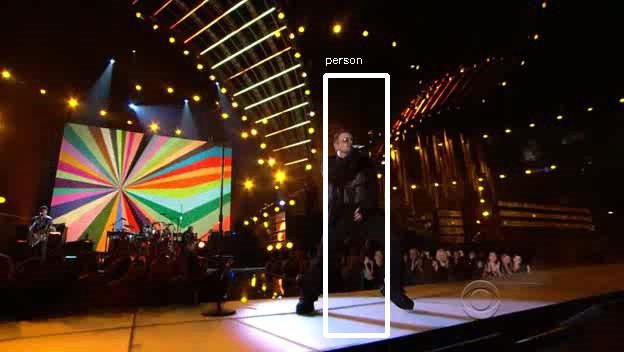person: (320, 130, 384, 247), (317, 130, 381, 247), (323, 130, 387, 247), (320, 127, 384, 244), (320, 133, 384, 250)
target_negative: (543, 84, 621, 331), (284, 296, 453, 339), (579, 189, 621, 214), (356, 315, 398, 335), (458, 120, 545, 123), (601, 302, 606, 317)
